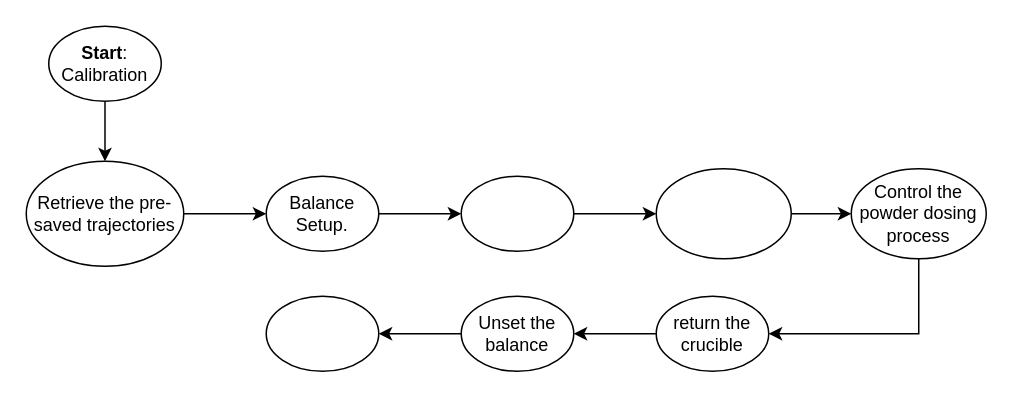
The diagram is 1013 pixels wide and 398 high, and some of its shapes have lost their labels. The shapes that lost their labels are listed below. From the top down, each one's centre as x and y in pixels, then its label:
At [517,213]: "Obtain the crucible".
At [723,213]: "Configure the dosing parameters".
At [322,333]: "End : Go Home".
